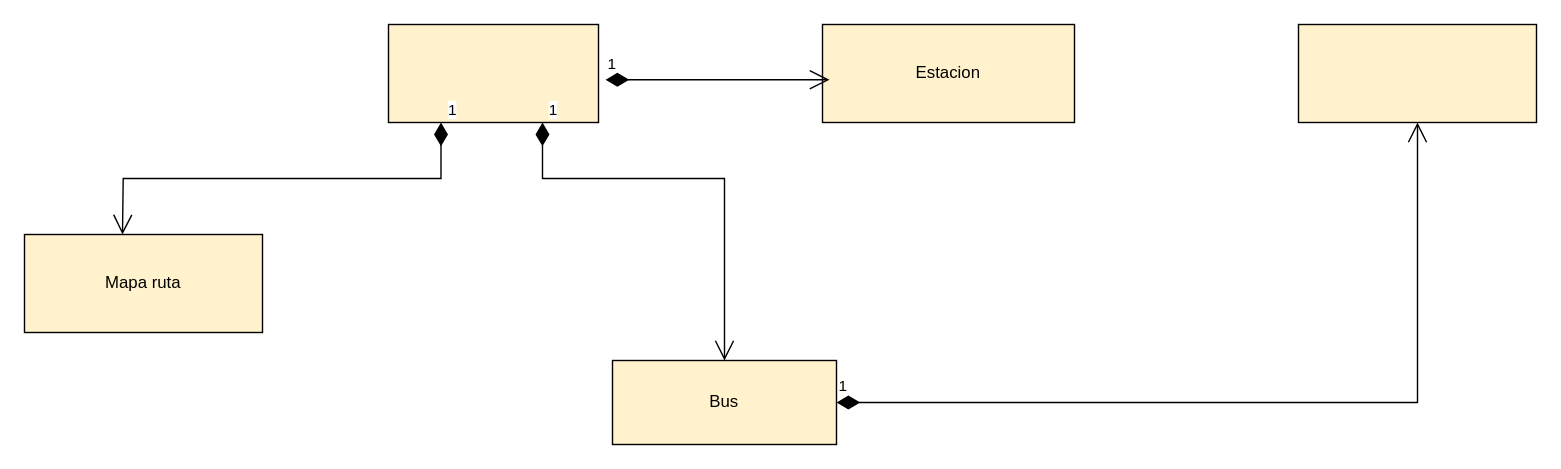
Image size: 1561x469. Some labels were removed from this diagram. Each missing label, with the centre of its shape:
"Pasajero" belongs at (1416,72).
"Ruta" belongs at (492,72).
